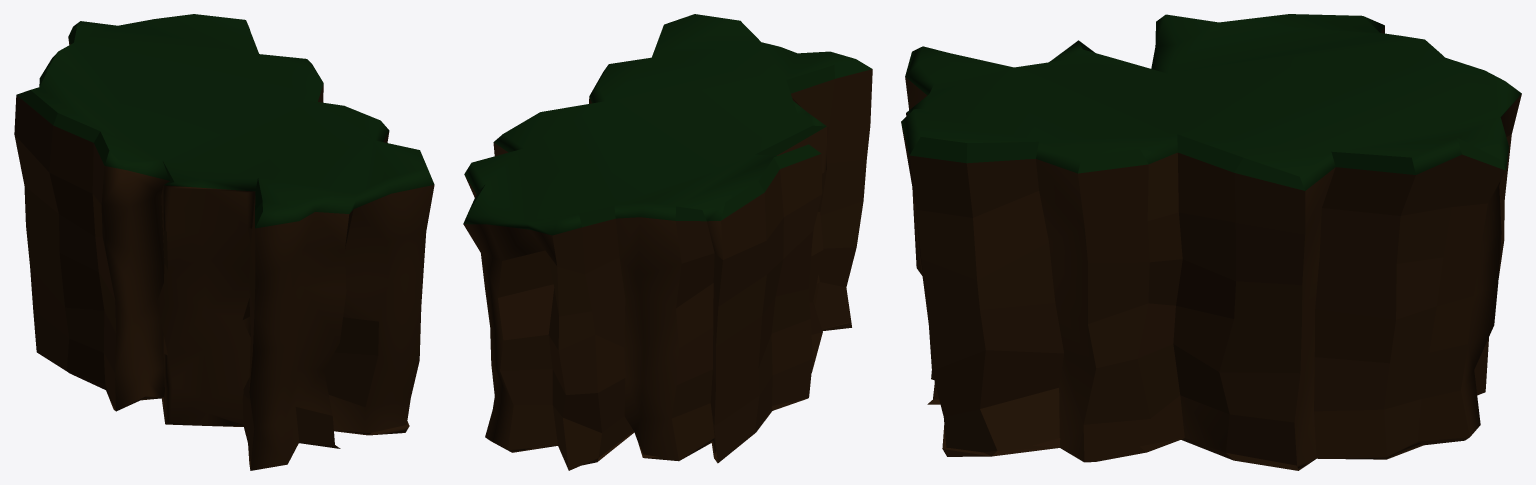
The model's file is IslandCliffPlaceholder.FBX.
3 views of the same model, side by side, from view 1: azimuth 30°, elevation 25°; view 2: azimuth 150°, elevation 25°; view 3: azimuth 270°, elevation 25° (orthographic). The views are drawn at different scales.
Visible parts, largest first — view 1: cliff2; view 2: cliff2; view 3: cliff2.
Part boxes in pixels (left/top/right/bottom): cliff2: left=14, top=14, right=434, bottom=470; cliff2: left=463, top=14, right=872, bottom=470; cliff2: left=901, top=14, right=1521, bottom=470.
Size of what is drawn, in the model's own units: 14181 by 23302 by 13658.
